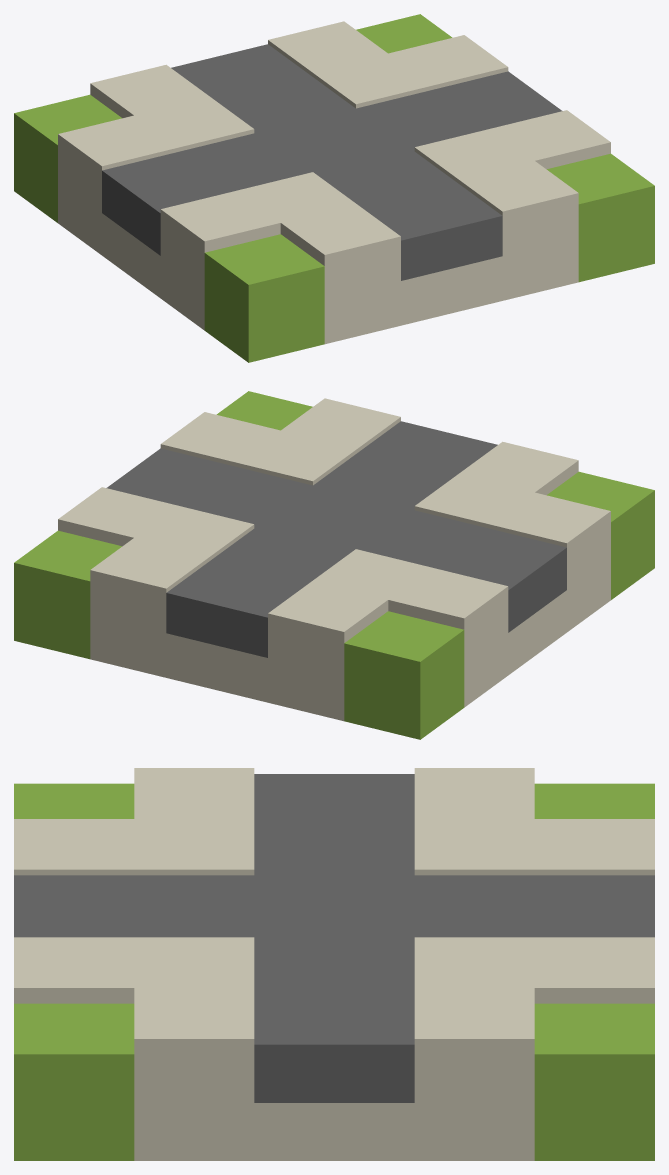
File: roadTile_166.obj
The picture shows the model from 3 angles, top to bottom: view 1: azimuth 30°, elevation 25°; view 2: azimuth 150°, elevation 25°; view 3: azimuth 270°, elevation 25°; orthographic projection. The views are drawn at different scales.
Parts seen in each view (by area): view 1: part5, part14, part15, part4, part6, part0, part3, part17, part13, part7, part16; view 2: part5, part4, part2, part3, part14, part6, part0, part15, part1, part11, part7, part13 (+1 smaller); view 3: part5, part0, part15, part14, part4, part6, part9, part17, part7, part3, part8, part16 (+1 smaller).
Part boxes in pixels (<box>): part5: <box>102,44,562,240</box>; part14: <box>161,172,578,344</box>; part15: <box>204,153,654,362</box>; part4: <box>58,64,254,330</box>; part6: <box>268,21,508,108</box>; part0: <box>415,110,610,211</box>; part3: <box>14,94,121,222</box>; part17: <box>401,216,502,280</box>; part13: <box>102,171,160,255</box>; part7: <box>356,14,452,53</box>; part16: <box>414,142,610,215</box>; part5: <box>106,421,566,617</box>; part4: <box>268,511,610,707</box>; part2: <box>90,570,344,721</box>; part3: <box>344,611,464,739</box>; part14: <box>414,441,610,547</box>; part6: <box>58,487,253,588</box>; part0: <box>160,398,400,485</box>; part15: <box>216,391,654,599</box>; part1: <box>14,563,90,659</box>; part11: <box>166,593,267,657</box>; part7: <box>14,530,121,581</box>; part13: <box>508,548,566,632</box>; part5: <box>14,774,654,1044</box>; part0: <box>14,937,534,1160</box>; part15: <box>14,783,134,1160</box>; part14: <box>14,768,254,875</box>; part4: <box>414,768,654,869</box>; part6: <box>414,937,654,1038</box>; part9: <box>534,1054,654,1160</box>; part17: <box>254,1044,414,1102</box>; part7: <box>534,1003,654,1054</box>; part3: <box>534,783,654,818</box>; part8: <box>534,988,654,1003</box>; part16: <box>14,988,134,1003</box>.
Bounding box in the file's own units: 3 × 0.63 × 3.
